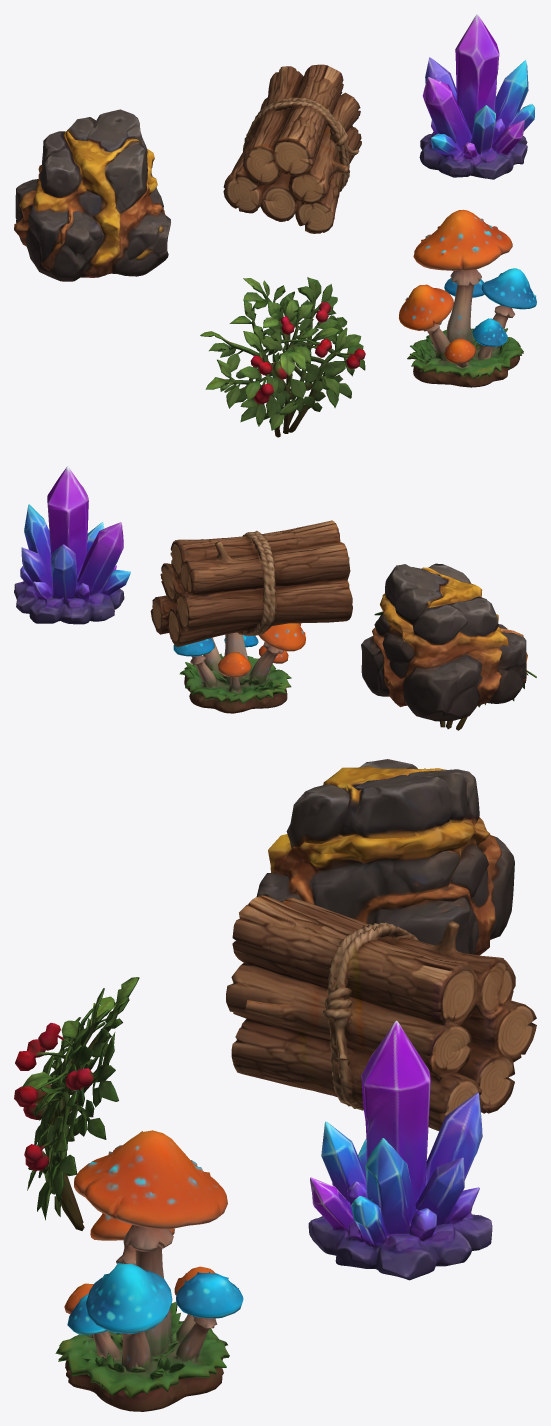
The model's file is Recursos Recolectablesa.glb.
The picture shows the model from 3 angles, top to bottom: view 1: azimuth 30°, elevation 25°; view 2: azimuth 150°, elevation 25°; view 3: azimuth 270°, elevation 25°; orthographic projection. The views are drawn at different scales.
Visible parts, largest first — view 1: tripo_node_2856a187-2084-485d-9232-fd131567202f; view 2: tripo_node_2856a187-2084-485d-9232-fd131567202f; view 3: tripo_node_2856a187-2084-485d-9232-fd131567202f.
Boxes of the visible parts, x1=… form: tripo_node_2856a187-2084-485d-9232-fd131567202f: x1=14, y1=14, x2=536, y2=437; tripo_node_2856a187-2084-485d-9232-fd131567202f: x1=14, y1=466, x2=536, y2=730; tripo_node_2856a187-2084-485d-9232-fd131567202f: x1=14, y1=759, x2=536, y2=1411.
Bounding box in the file's own units: 0.9823 × 0.5084 × 0.5607.
1 material, 1 textured.
